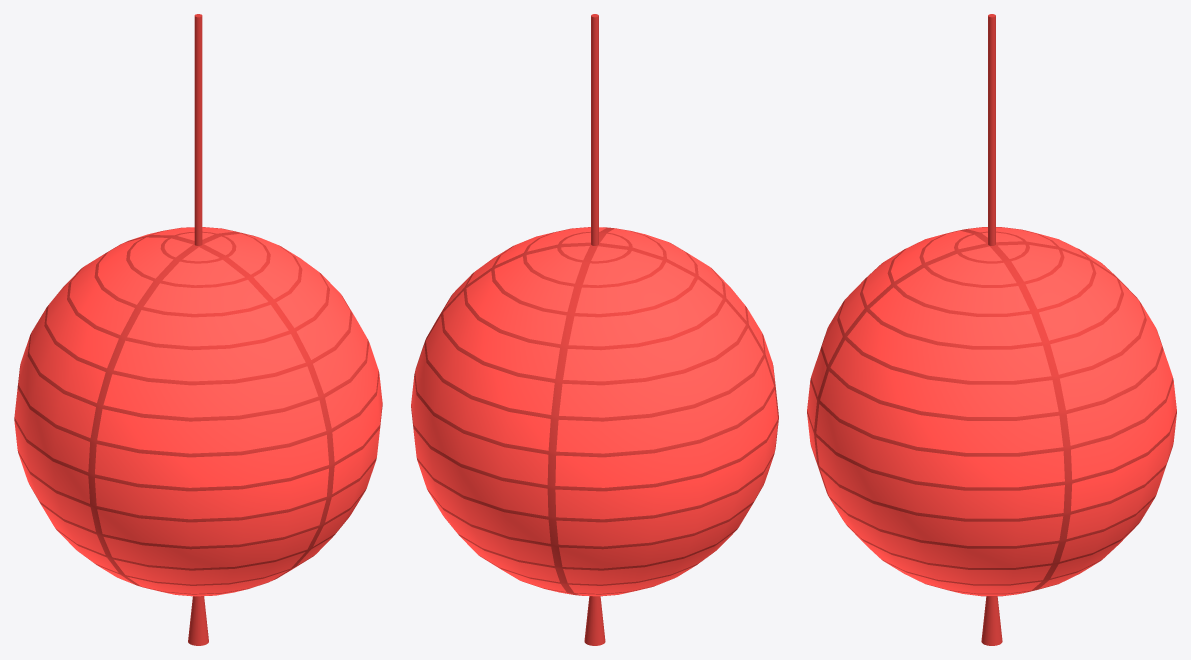
The model's file is Lamp.fbx.
3 views of the same model, side by side, from view 1: azimuth 30°, elevation 25°; view 2: azimuth 150°, elevation 25°; view 3: azimuth 270°, elevation 25° (orthographic).
Visible parts, largest first — view 1: Cylinder.001; view 2: Cylinder.001; view 3: Cylinder.001.
Boxes of the visible parts, box(x1,y1,x2,y2) form: Cylinder.001: box(14, 14, 382, 645); Cylinder.001: box(411, 14, 778, 645); Cylinder.001: box(807, 14, 1176, 645).
Bounding box in the file's own units: 198 × 373 × 200.
